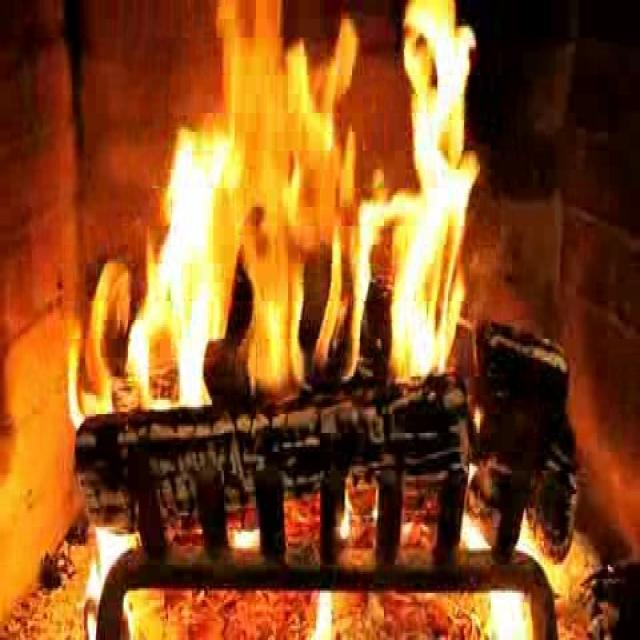Fire: (156, 0, 478, 389)
